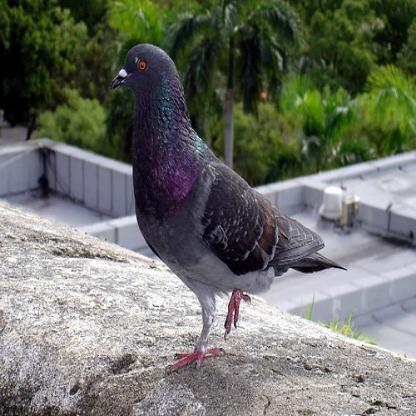bird: (108, 41, 348, 372)
